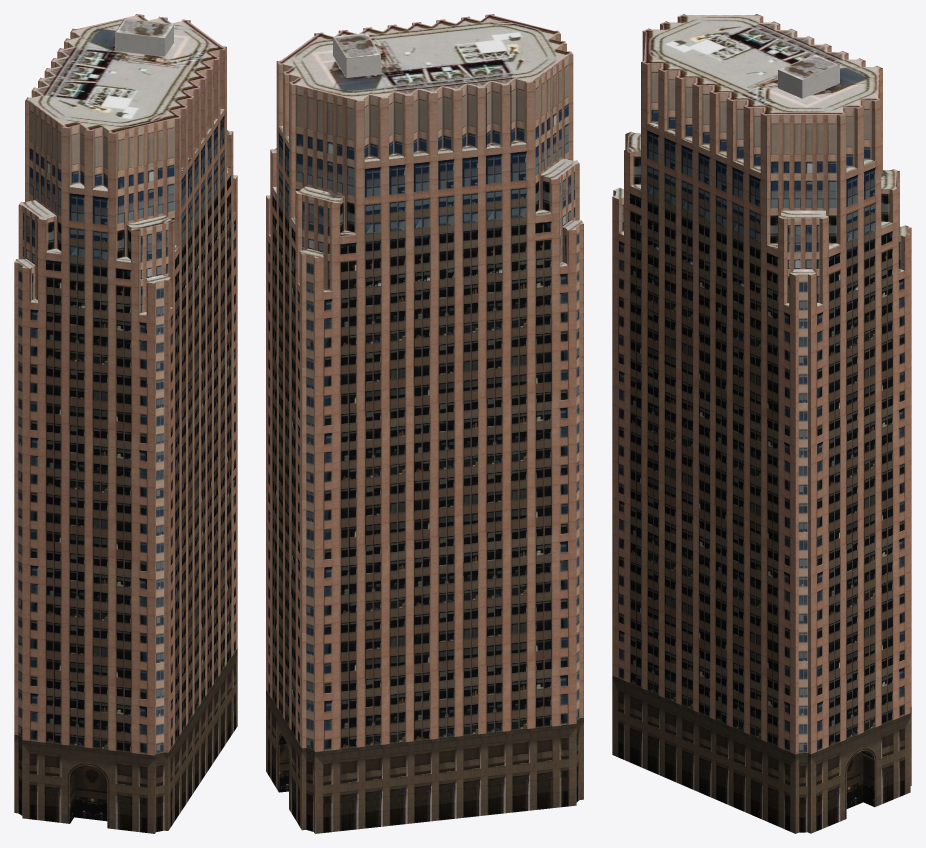
The model's file is bank.obj.
The picture shows the model from 3 angles, left to right: view 1: azimuth 30°, elevation 25°; view 2: azimuth 150°, elevation 25°; view 3: azimuth 270°, elevation 25°; orthographic projection. The views are drawn at different scales.
Visible parts, largest first — view 1: mesh1; view 2: mesh1; view 3: mesh1.
Boxes of the visible parts, x1,y1,x2,y2 form: mesh1: [14, 14, 237, 833]; mesh1: [266, 14, 583, 833]; mesh1: [612, 14, 911, 833].
Size of the model in its own units: 2174 by 5778 by 2163.
Materials: 12 (12 with a texture image).
